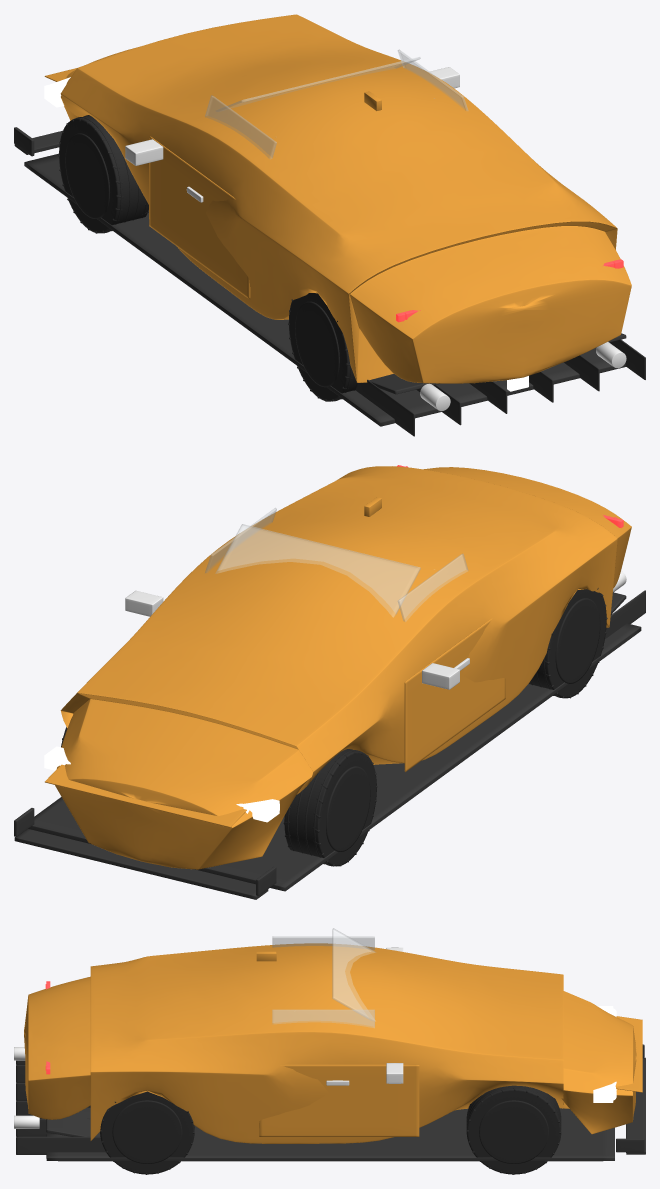
Rendered from vehicle.opt.glb.
3 views of the same model, one above another, from view 1: azimuth 30°, elevation 25°; view 2: azimuth 150°, elevation 25°; view 3: azimuth 270°, elevation 25° (orthographic). The views are drawn at different scales.
Visible parts, largest first — view 1: BODY_MainShell, UNDERBODY_FlatFloor, WHEEL_FL_Tire, BODY_Door_FL, WHEEL_RL_Tire, GLASS_Greenhouse, JEWELRY_Hardware, JEWELRY_GT86_DualExhaust, AERO_FrontSplitter; view 2: BODY_MainShell, UNDERBODY_FlatFloor, GLASS_Greenhouse, WHEEL_FL_Tire, BODY_Door_FL, WHEEL_RL_Tire, AERO_FrontSplitter, BODY_Hood, JEWELRY_Hardware, LIGHTING_Headlamps; view 3: BODY_MainShell, UNDERBODY_FlatFloor, BODY_Door_FR, WHEEL_FR_Tire, WHEEL_RR_Tire, GLASS_Greenhouse, AERO_FrontSplitter, BODY_Hood, JEWELRY_Hardware, JEWELRY_GT86_DualExhaust, LIGHTING_Headlamps.
Boxes of the visible parts, left/top/right/bottom form: BODY_MainShell: left=60, top=14, right=631, bottom=383; UNDERBODY_FlatFloor: left=24, top=153, right=645, bottom=436; WHEEL_FL_Tire: left=58, top=115, right=148, bottom=233; BODY_Door_FL: left=149, top=136, right=250, bottom=299; WHEEL_RL_Tire: left=288, top=292, right=358, bottom=401; GLASS_Greenhouse: left=205, top=49, right=468, bottom=159; JEWELRY_Hardware: left=125, top=67, right=459, bottom=202; JEWELRY_GT86_DualExhaust: left=420, top=342, right=626, bottom=411; AERO_FrontSplitter: left=14, top=127, right=62, bottom=156; BODY_MainShell: left=55, top=466, right=631, bottom=869; UNDERBODY_FlatFloor: left=28, top=590, right=645, bottom=891; GLASS_Greenhouse: left=205, top=508, right=468, bottom=621; WHEEL_FL_Tire: left=283, top=749, right=377, bottom=866; BODY_Door_FL: left=404, top=618, right=505, bottom=771; WHEEL_RL_Tire: left=529, top=588, right=607, bottom=698; AERO_FrontSplitter: left=14, top=808, right=276, bottom=899; BODY_Hood: left=45, top=764, right=246, bottom=827; JEWELRY_Hardware: left=125, top=590, right=469, bottom=689; LIGHTING_Headlamps: left=44, top=746, right=279, bottom=822; BODY_MainShell: left=24, top=943, right=636, bottom=1143; UNDERBODY_FlatFloor: left=16, top=1060, right=614, bottom=1161; BODY_Door_FR: left=259, top=1064, right=419, bottom=1136; WHEEL_FR_Tire: left=466, top=1085, right=561, bottom=1174; WHEEL_RR_Tire: left=100, top=1091, right=194, bottom=1174; GLASS_Greenhouse: left=272, top=928, right=375, bottom=1027; AERO_FrontSplitter: left=616, top=1044, right=645, bottom=1154; BODY_Hood: left=616, top=1016, right=642, bottom=1092; JEWELRY_Hardware: left=326, top=947, right=403, bottom=1085; JEWELRY_GT86_DualExhaust: left=14, top=1047, right=39, bottom=1128; LIGHTING_Headlamps: left=593, top=1006, right=616, bottom=1102.
Size of what is drawn, in the model's own units: 2.1 by 1.33 by 4.43.
